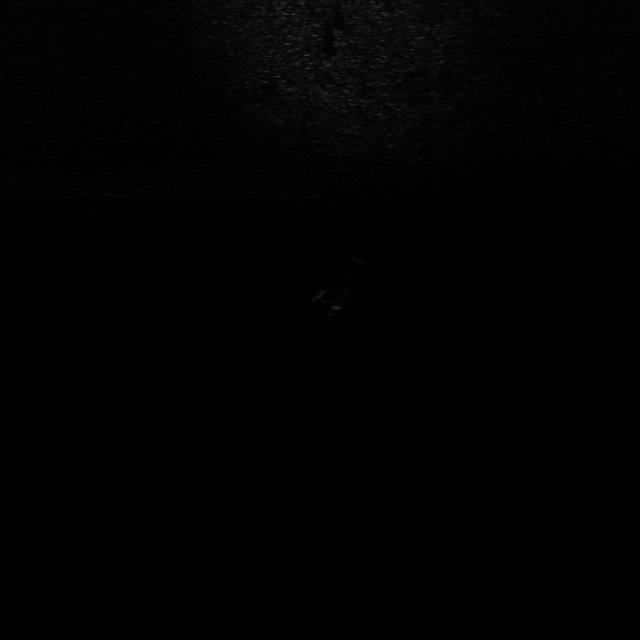human body: (311, 258, 367, 322)
